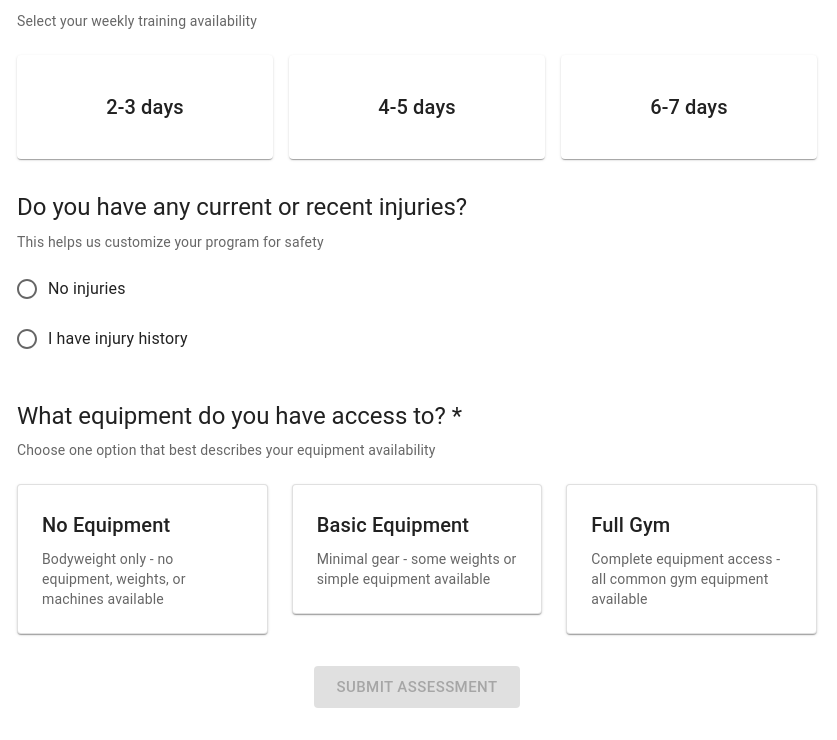
Test case: AssessmentForm › Equipment Follow-up Section - Story 19.5 › should hide follow-up section and clear selections when switching from basic to another option
The image size is (837, 740).
(page scrolled)
Note: Select "Basic Equipment"
Click the button "Basic Equipment": [417, 549] box [293,485,541,613]
(page scrolled)
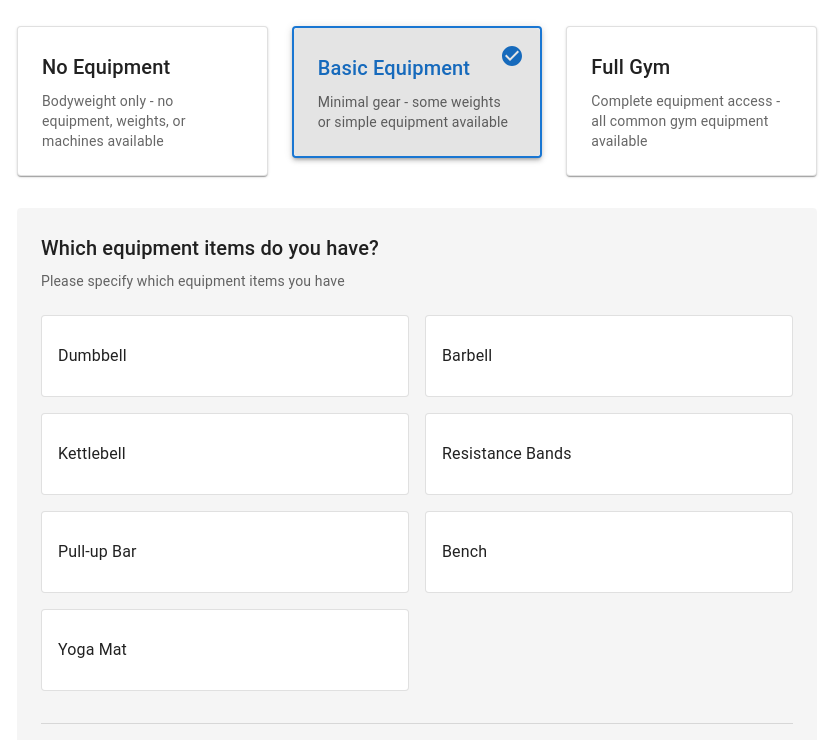
Expected: the text "Please specify which equipment items you have" is shown, [41,273,345,289]
Click the button "Dumbbell": [92, 356] box [42,316,408,396]
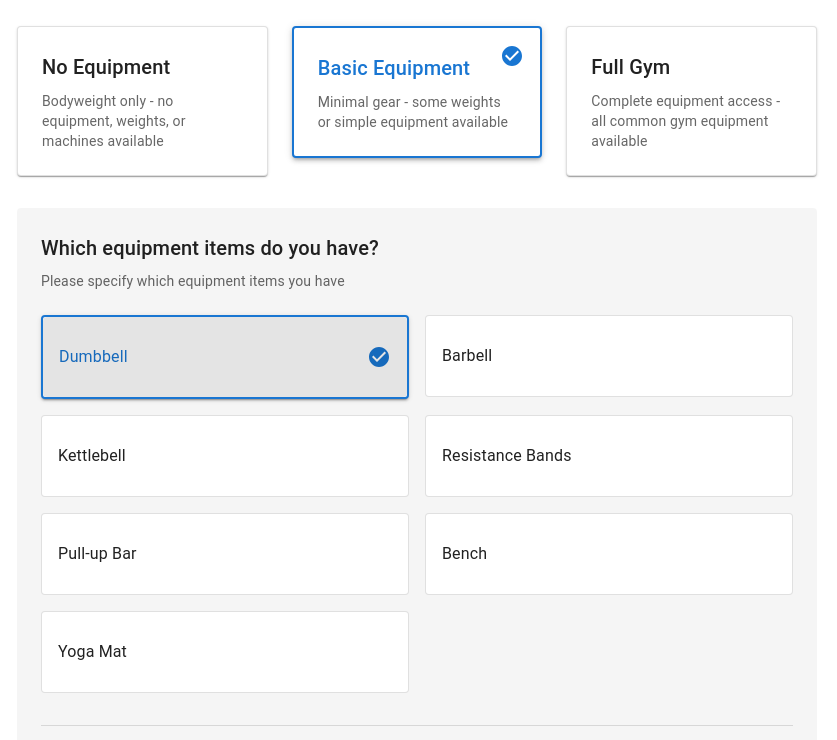
Note: Switch to "Full Gym"
Click the button "Full Gym": [692, 101] box [567,27,816,175]
(page scrolled)
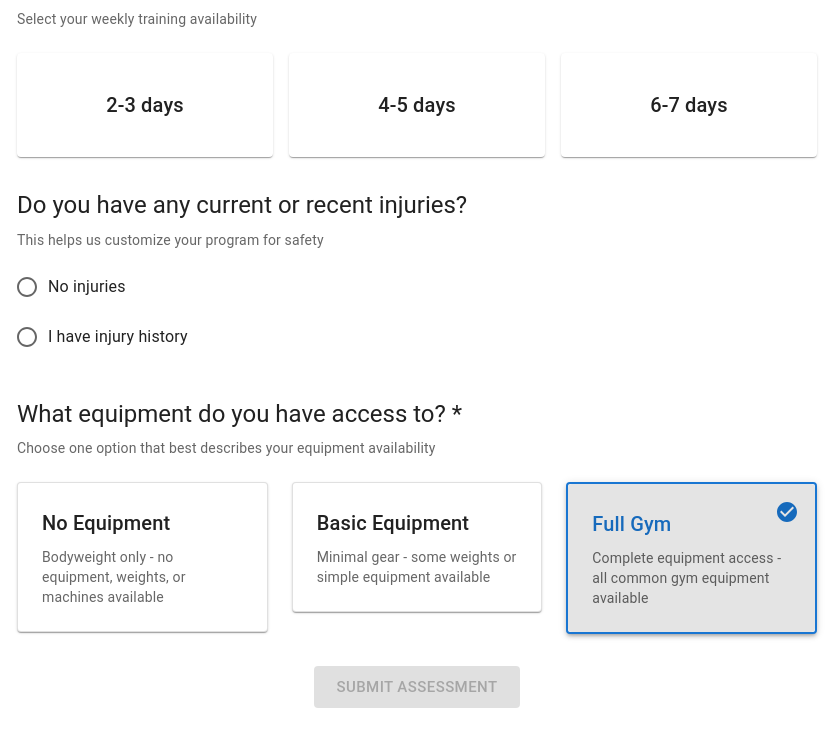
Expected: the text "Please specify which equipment items you have" is gone
